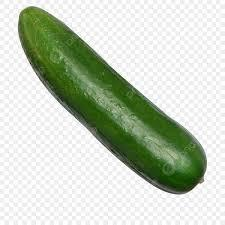non-mango: (17, 4, 207, 194)
